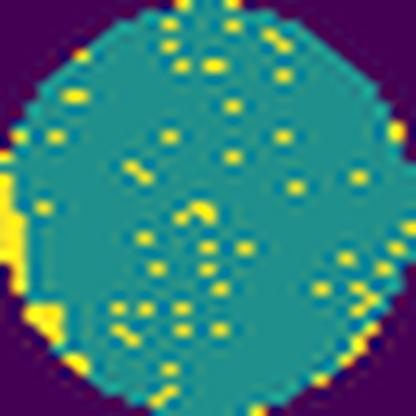Edge-Loc: (0, 169, 31, 297), (17, 298, 70, 350)
